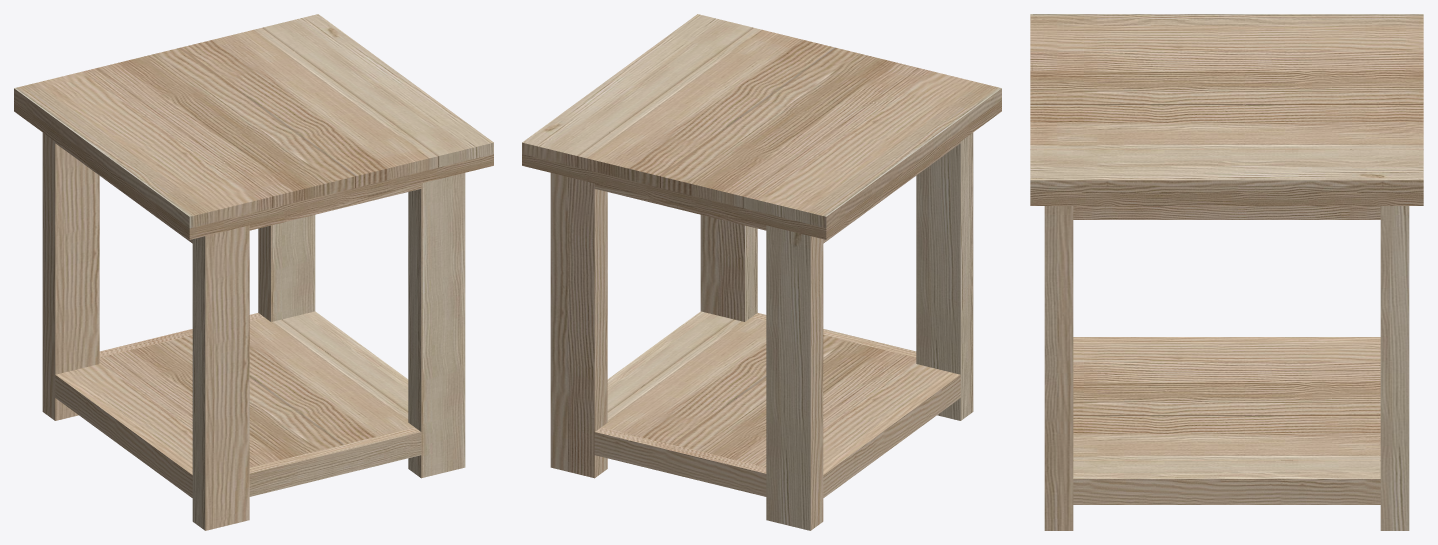
File: sidetable.obj
3 views of the same model, side by side, from view 1: azimuth 30°, elevation 25°; view 2: azimuth 150°, elevation 25°; view 3: azimuth 270°, elevation 25° (orthographic). The views are drawn at different scales.
Parts seen in each view (by area): view 1: Mesh1 Model; view 2: Mesh1 Model; view 3: Mesh1 Model.
Part boxes in pixels (x1,y1,x2,y2): Mesh1 Model: (14,14,493,530); Mesh1 Model: (522,14,1001,530); Mesh1 Model: (1030,14,1423,530).
Bounding box in the file's own units: 21.65 × 22.05 × 21.65.
2 materials, 2 textured.
